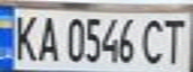0: (63, 14, 84, 63)
4: (100, 15, 121, 63)
5: (81, 15, 103, 64)
6: (115, 15, 142, 64)
A: (33, 12, 60, 63)
C: (139, 15, 169, 65)
K: (6, 11, 42, 62)
T: (157, 15, 190, 66)
